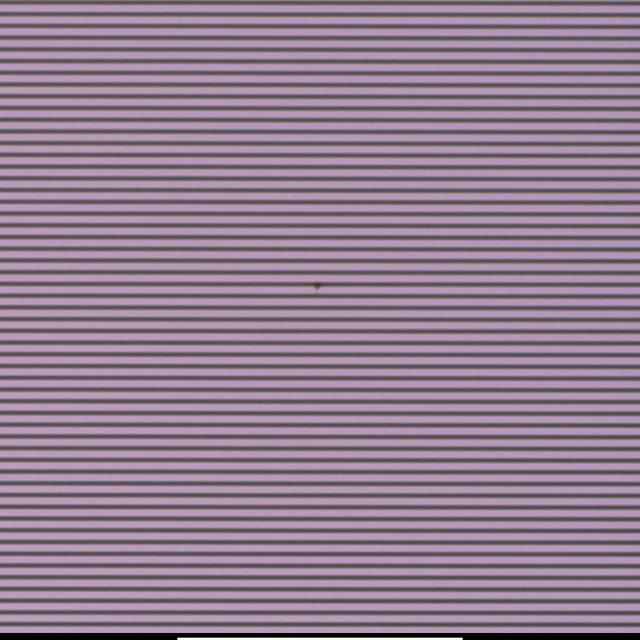03_intrusion: (310, 278, 324, 292)
